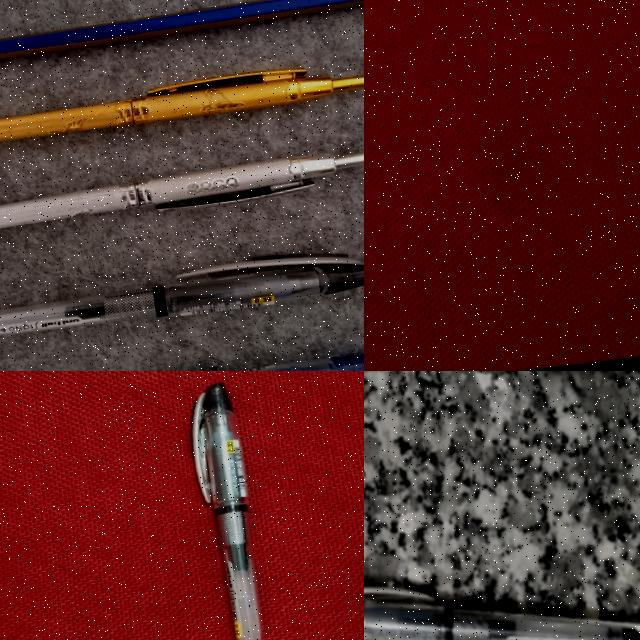pen: (0, 245, 364, 352), (192, 383, 261, 639), (364, 578, 640, 640)
pencil: (0, 0, 364, 92)
signature pen: (0, 57, 364, 156), (0, 148, 364, 245)
